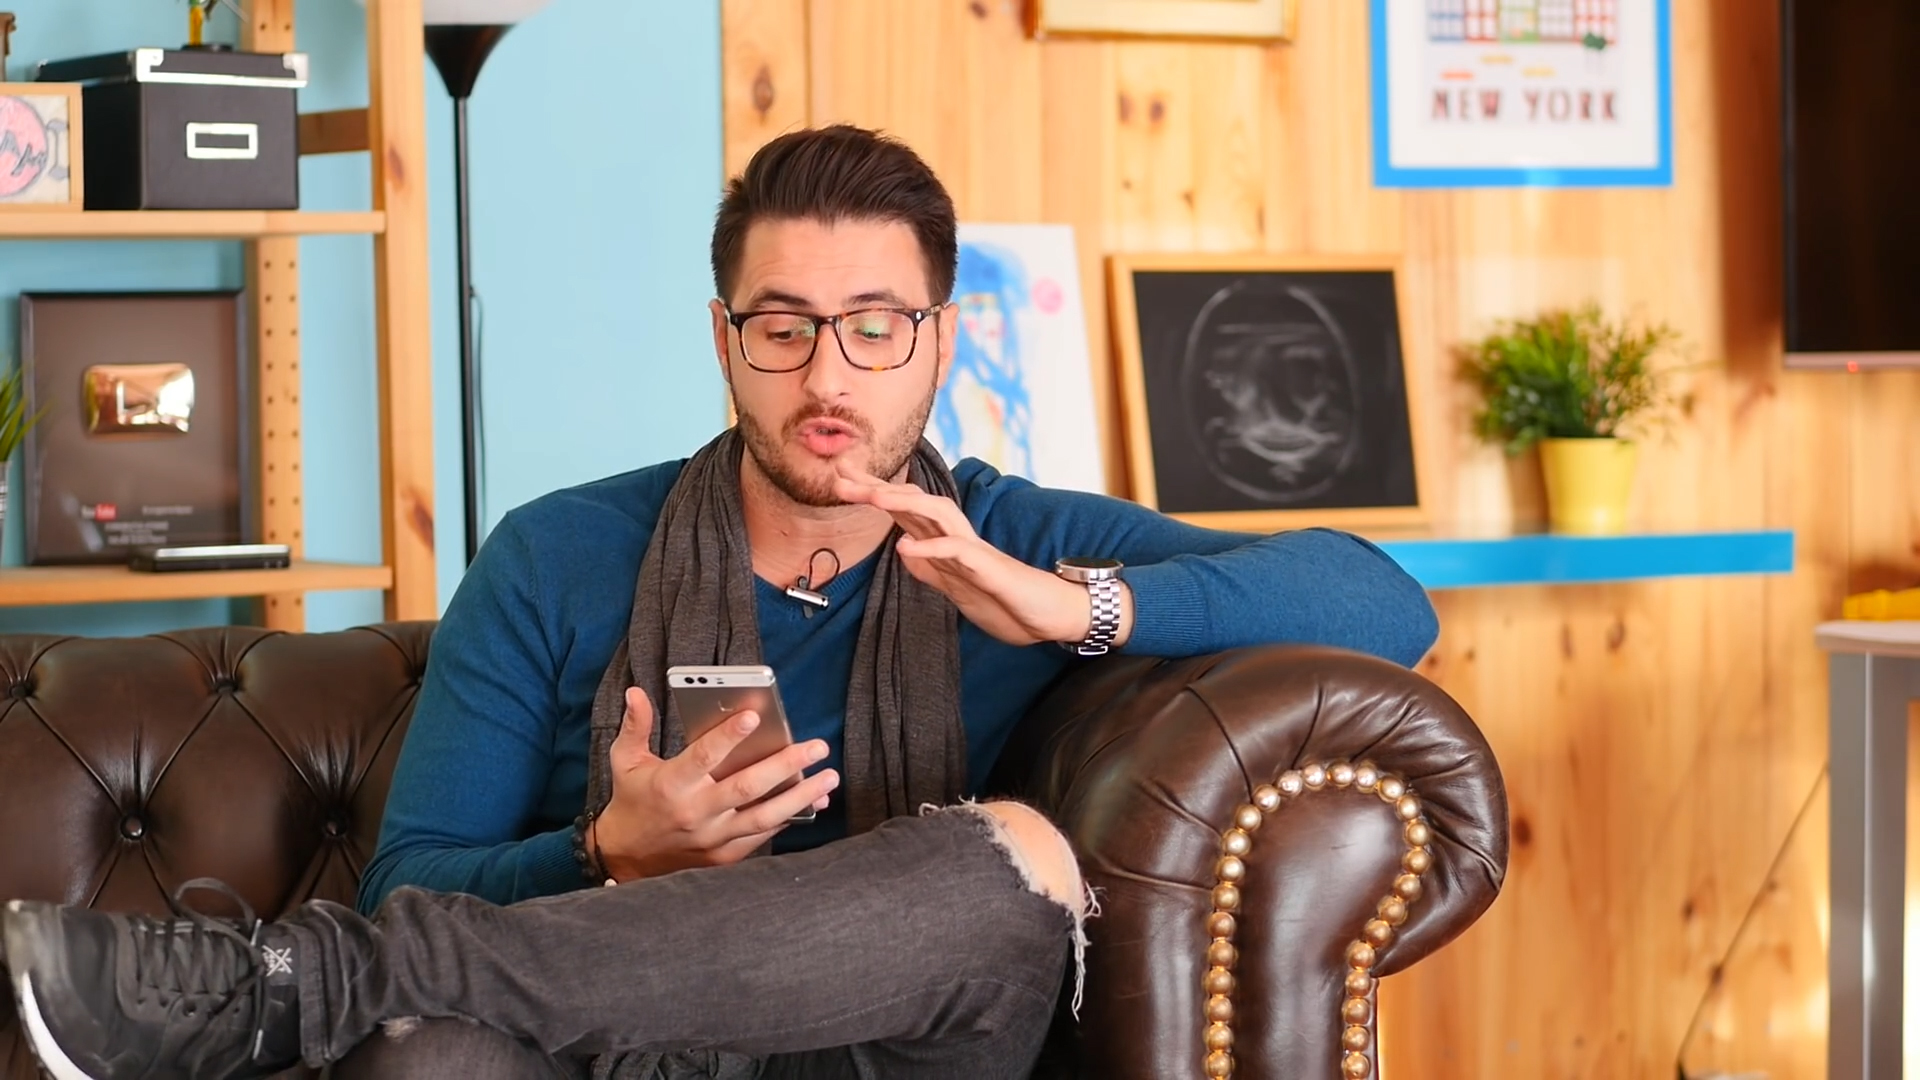smartphone: (665, 665, 819, 825)
